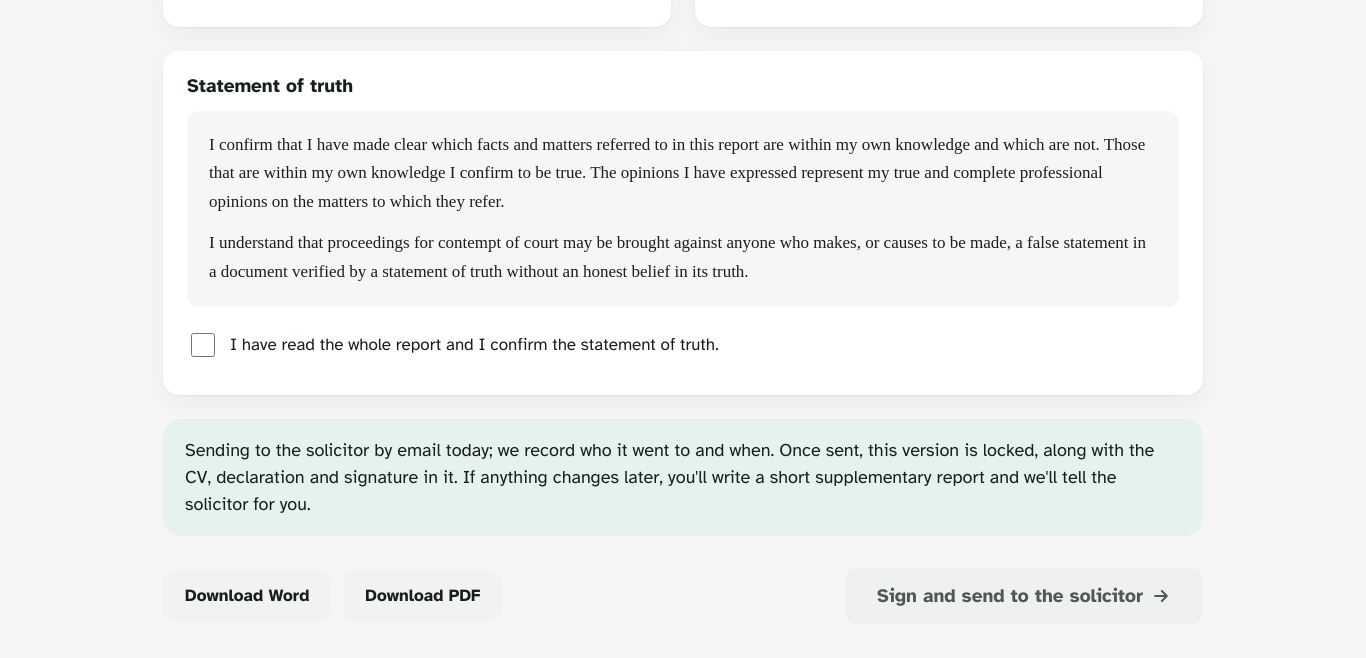
Test: a refused signing (citation_problems) is explained in plain words
This screenshot has width=1366, height=658.
(page scrolled)
Click the checkbox labelled "I have read the whole report and I confirm the ".
click(203, 345)  # box [191, 333, 215, 357]
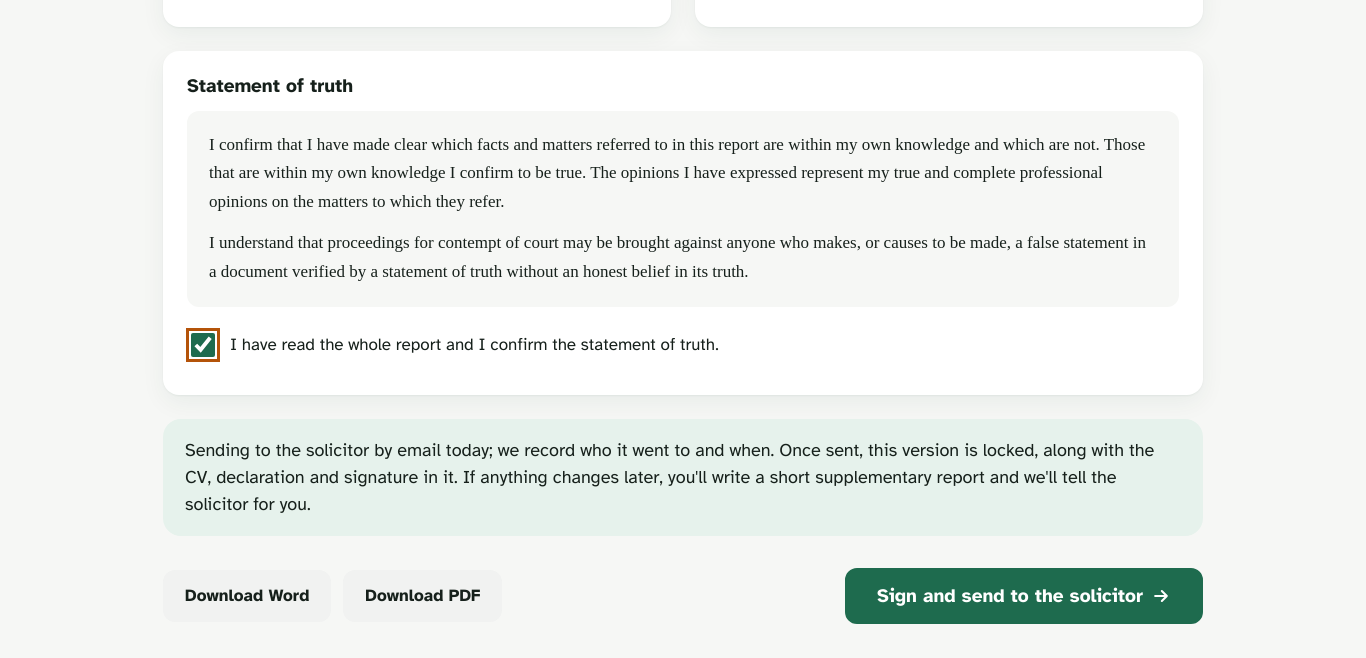
Click the button "Sign and send to the solicitor".
click(1024, 596)  # box [845, 568, 1203, 624]
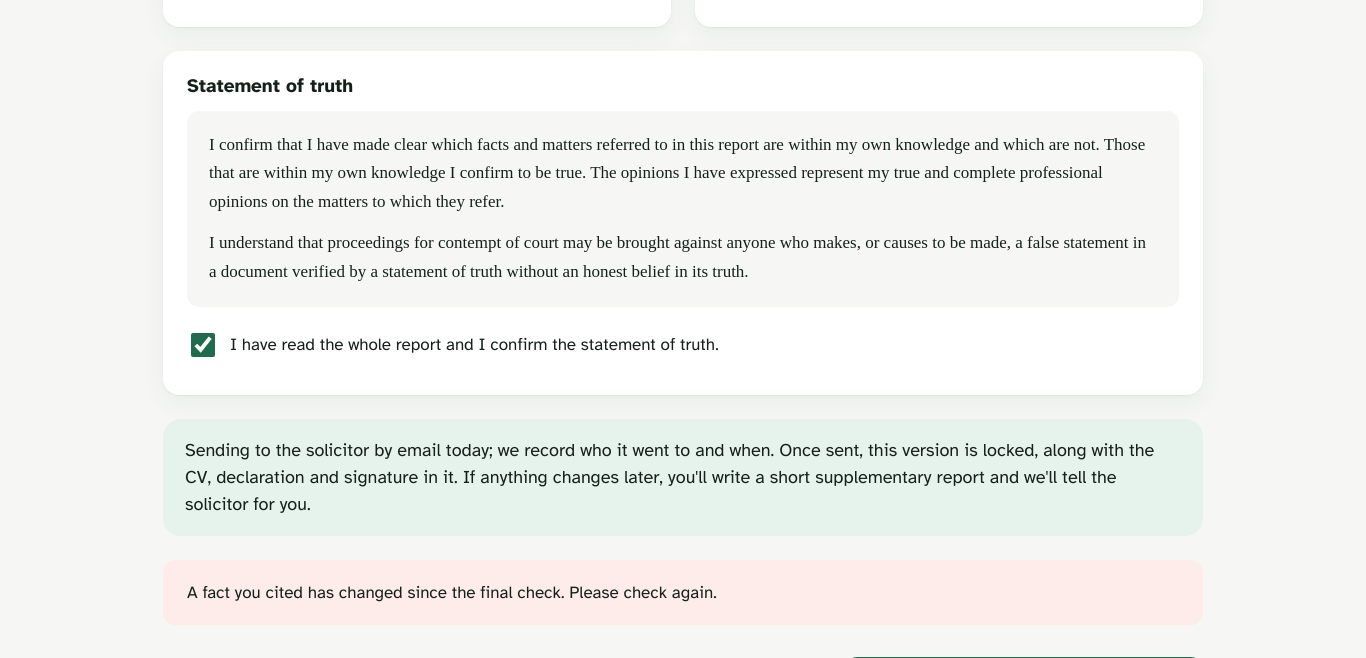
Expected: the text "A fact you cited has changed since the final check. Please check again." is shown, [187, 582, 717, 603]
